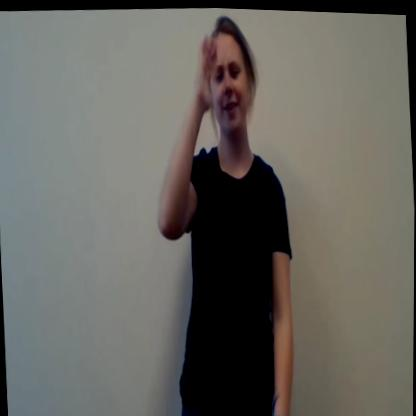Hello: (172, 5, 275, 196)
